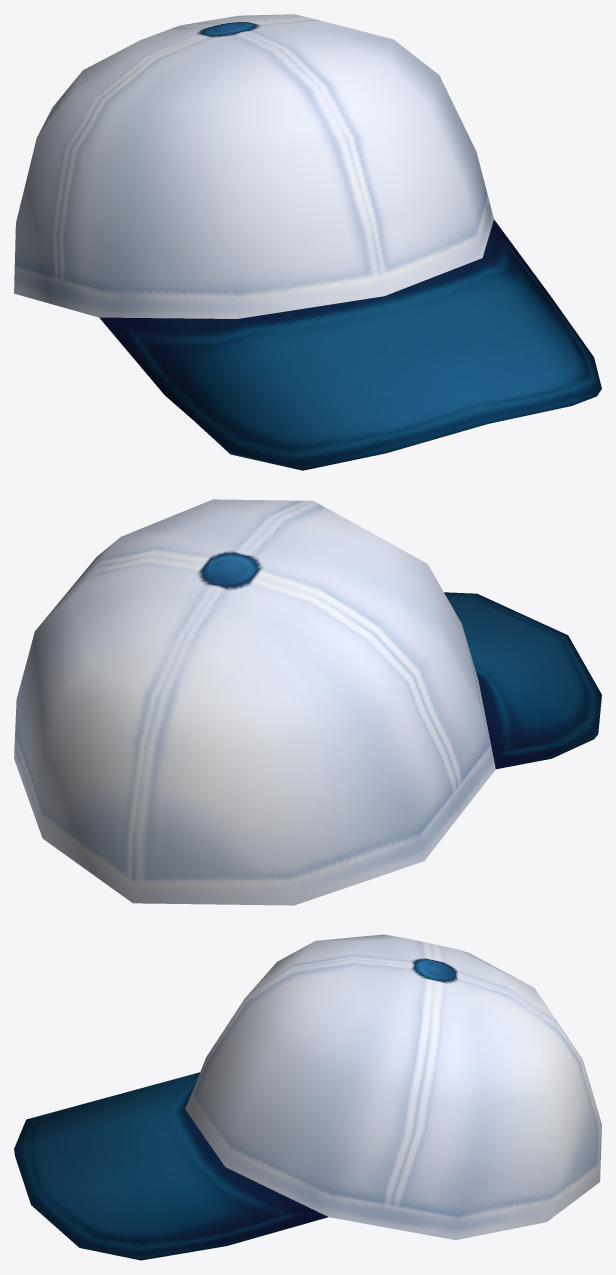
Rendered from SiWangPenQuan_01_bangqiumao_01.FBX.
3 renders of one model, top to bottom at view 1: azimuth 30°, elevation 25°; view 2: azimuth 150°, elevation 25°; view 3: azimuth 270°, elevation 25°, orthographic. The views are drawn at different scales.
Visible parts, largest first — view 1: SiWangPenQuan_01_bangqiumao_01; view 2: SiWangPenQuan_01_bangqiumao_01; view 3: SiWangPenQuan_01_bangqiumao_01.
Boxes of the visible parts, x1=… form: SiWangPenQuan_01_bangqiumao_01: x1=14, y1=14, x2=601, y2=470; SiWangPenQuan_01_bangqiumao_01: x1=14, y1=499, x2=601, y2=905; SiWangPenQuan_01_bangqiumao_01: x1=14, y1=934, x2=601, y2=1260.
Bounding box in the file's own units: 104 × 65.34 × 155.
